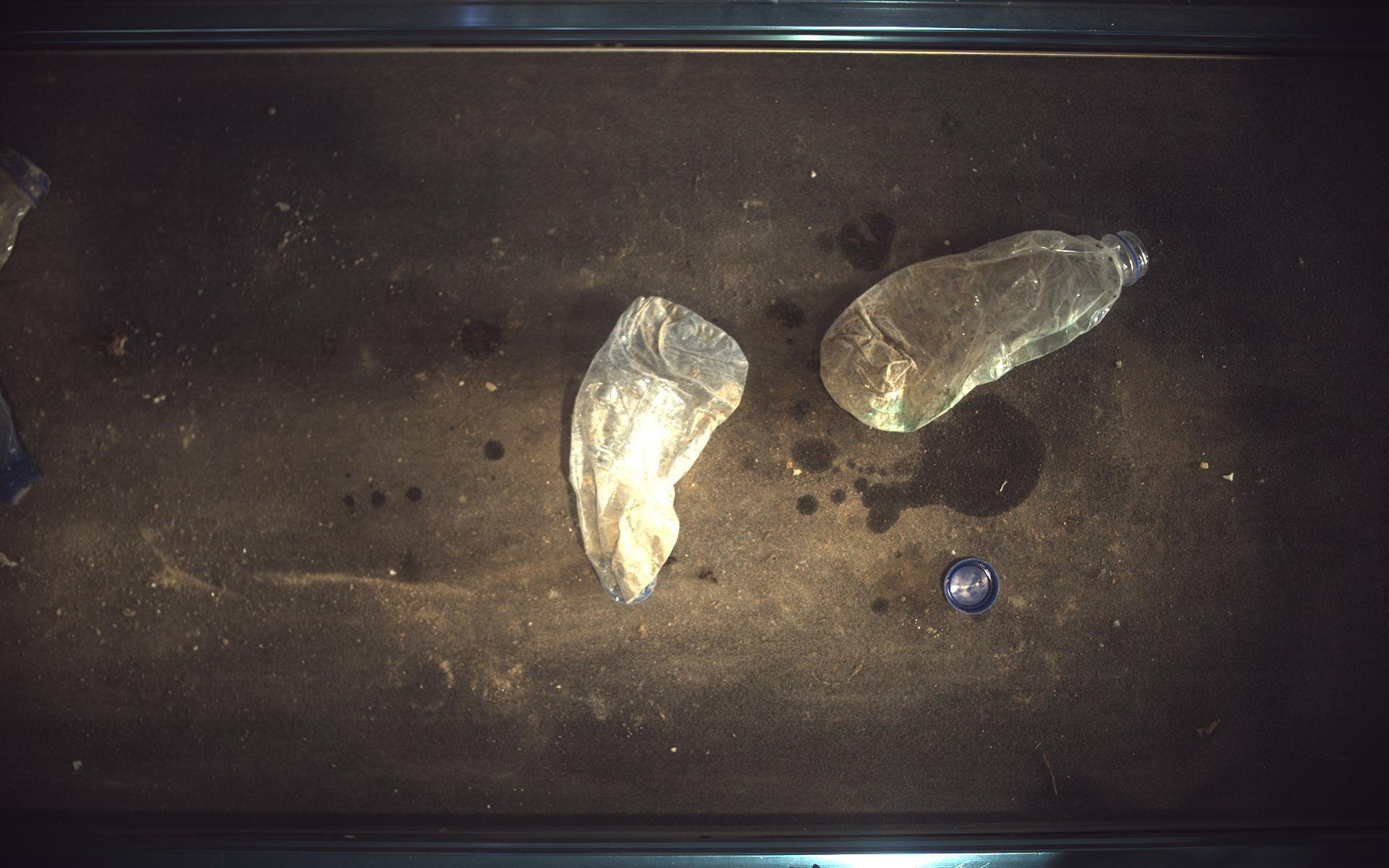general_w: (822, 230, 1151, 432), (944, 559, 1001, 616)
